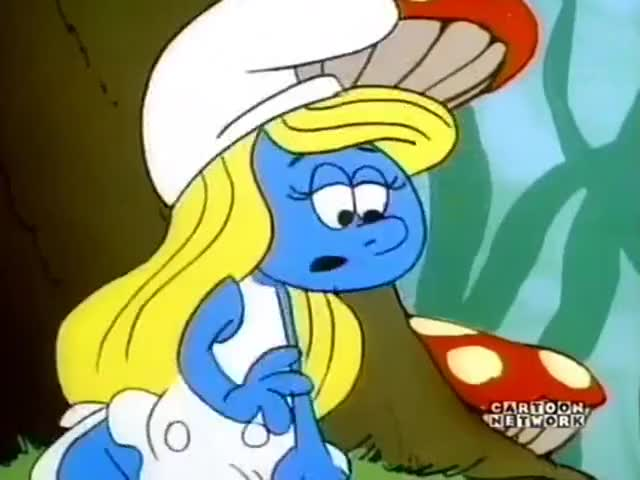smurf: (28, 4, 456, 480)
